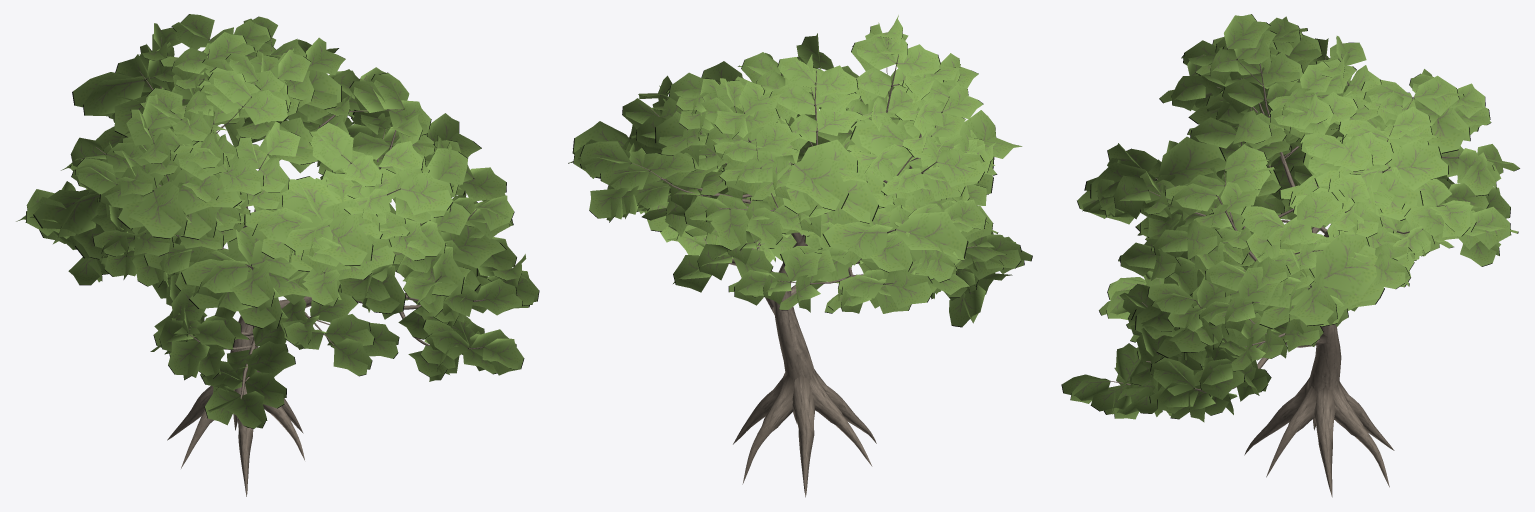
File: tree_Maple_LOD0.fbx
3 renders of one model, left to right at view 1: azimuth 30°, elevation 25°; view 2: azimuth 150°, elevation 25°; view 3: azimuth 270°, elevation 25°, orthographic.
Parts seen in each view (by area): view 1: Maple_LOD0; view 2: Maple_LOD0; view 3: Maple_LOD0.
Part boxes in pixels (left/top/right/bottom): Maple_LOD0: left=16, top=14, right=539, bottom=496; Maple_LOD0: left=568, top=15, right=1032, bottom=497; Maple_LOD0: left=1061, top=14, right=1519, bottom=497.
Size of the model in its own units: 1551 by 1548 by 1483.
